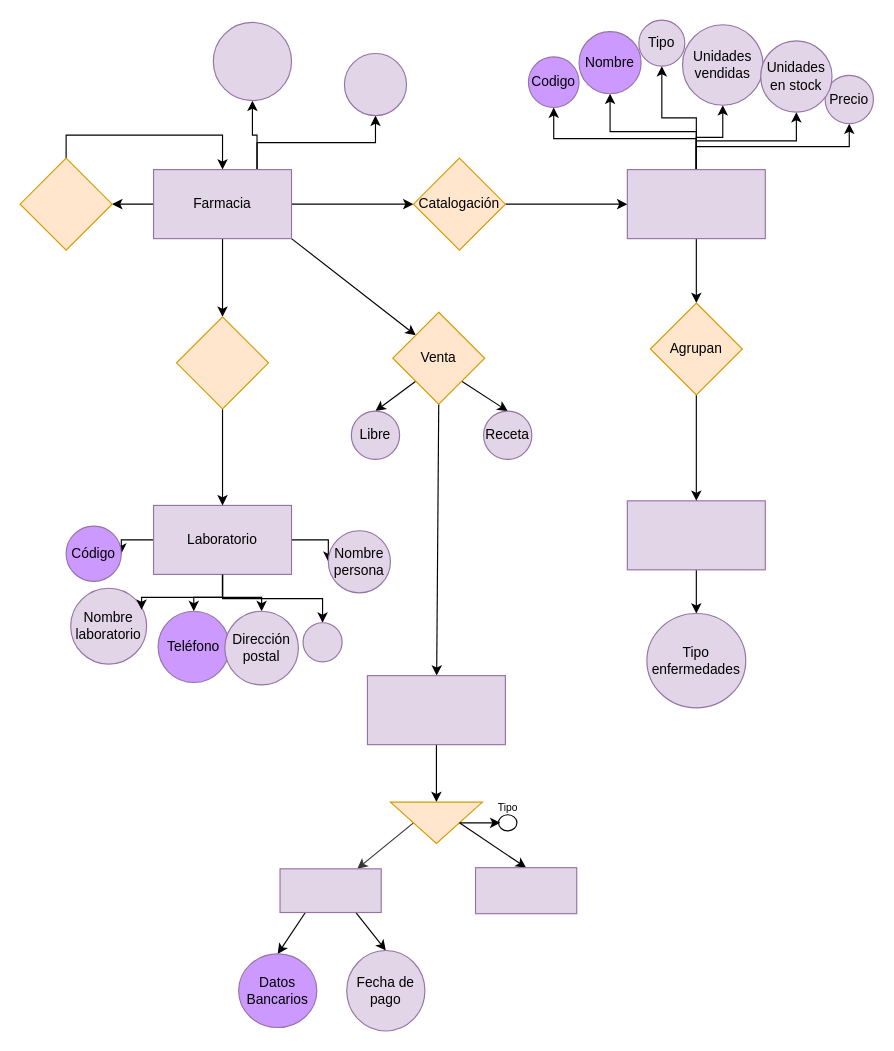
Image size: 894x1051. Some labels were removed from this diagram. Here are the shapes that lost their labels. From the top down, the centre of each, then its label:
pixel 252 61: Unidades compradas
pixel 375 84: Fecha compra
pixel 65 203: Fabrica
pixel 695 203: Medicamento
pixel 222 362: Compra
pixel 695 535: Familias
pixel 322 642: Fax
pixel 435 709: Clientes
pixel 330 890: Con Crédito
pixel 525 890: Sin Crédito
